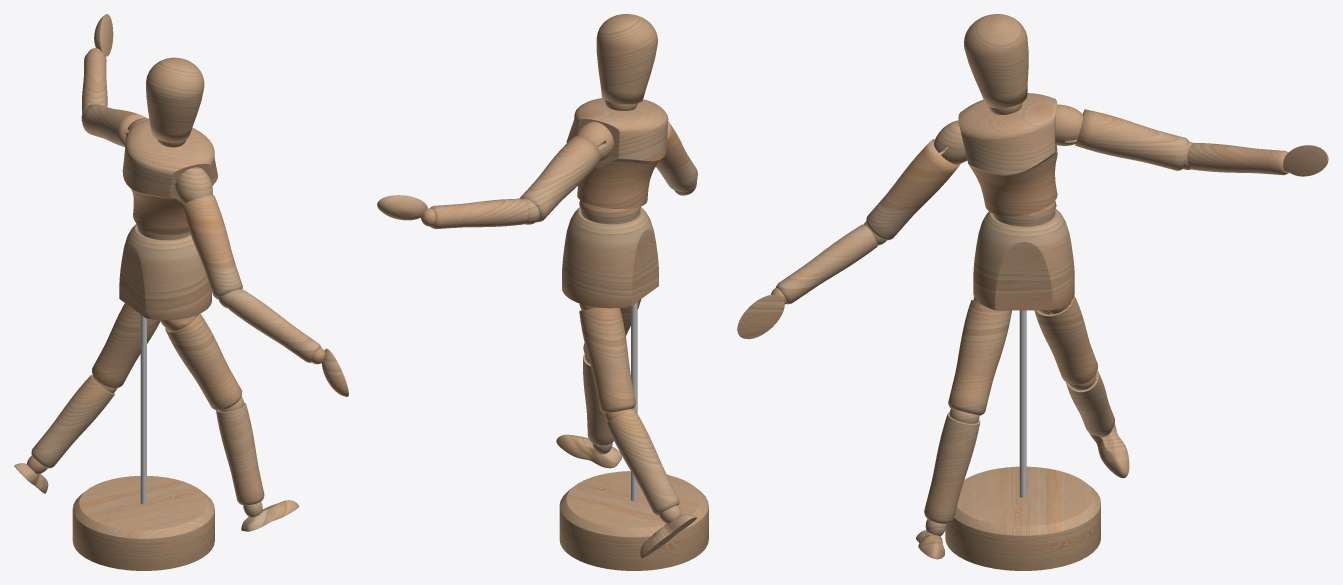
File: Wooden_dummy.glb
3 views of the same model, side by side, from view 1: azimuth 30°, elevation 25°; view 2: azimuth 150°, elevation 25°; view 3: azimuth 270°, elevation 25° (orthographic). The views are drawn at different scales.
Parts seen in each view (by area): view 1: Cylinder.002, Cylinder, Cylinder.001; view 2: Cylinder.002, Cylinder, Cylinder.001; view 3: Cylinder.002, Cylinder, Cylinder.001.
Part boxes in pixels (x1,y1,x2,y2): Cylinder.002: [14, 14, 348, 531]; Cylinder: [72, 476, 214, 570]; Cylinder.001: [140, 315, 146, 504]; Cylinder.002: [377, 14, 697, 558]; Cylinder: [559, 471, 708, 570]; Cylinder.001: [631, 302, 637, 500]; Cylinder.002: [737, 14, 1328, 559]; Cylinder: [945, 466, 1100, 570]; Cylinder.001: [1019, 310, 1026, 497].
Size of the model in its own units: 4.6 by 10.31 by 10.41.
Materials: 2 (1 with a texture image).
